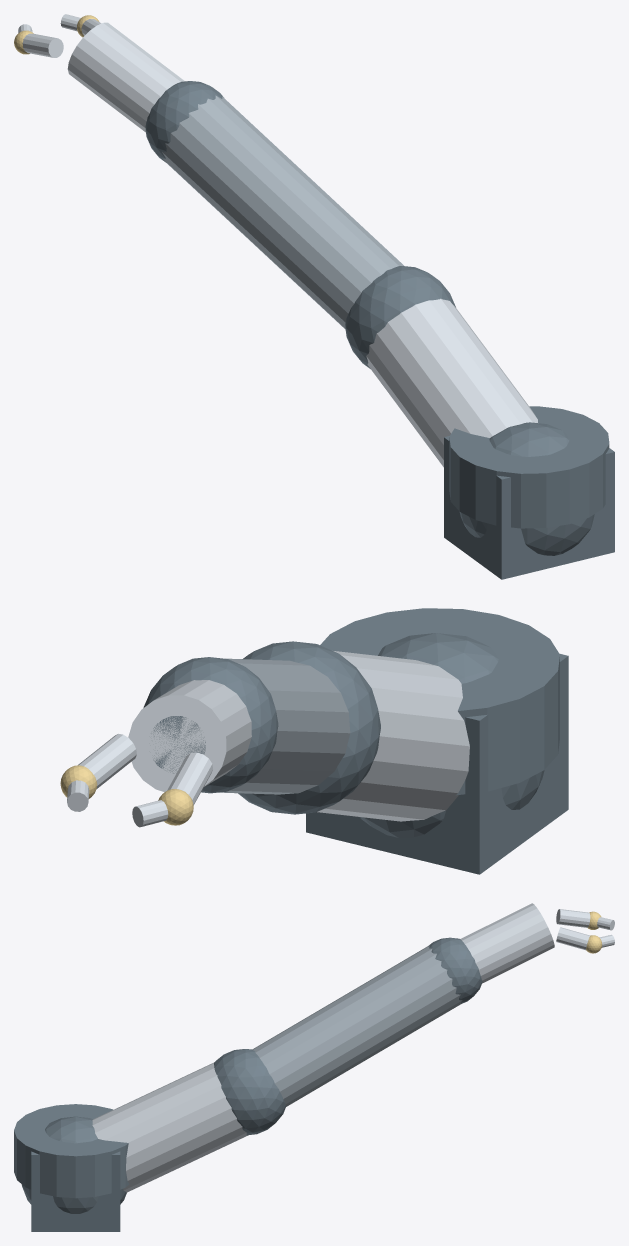
File: servicer_arm_right.glb
The picture shows the model from 3 angles, top to bottom: view 1: azimuth 30°, elevation 25°; view 2: azimuth 150°, elevation 25°; view 3: azimuth 270°, elevation 25°; orthographic projection. The views are drawn at different scales.
Visible parts, largest first — view 1: articulated forearm, primary shoulder link, shoulder yoke, robot arm mounting collar, wrist extension, joint mechanism 2, joint mechanism 1, joint mechanism 3, jaw 0 outer; view 2: shoulder yoke, primary shoulder link, robot arm mounting collar, articulated forearm, wrist extension, joint mechanism 2, joint mechanism 1, joint mechanism 3, jaw 1 outer, jaw 0 outer, wrist motor core, jaw 0 knuckle (+3 smaller); view 3: articulated forearm, primary shoulder link, shoulder yoke, wrist extension, joint mechanism 2, robot arm mounting collar, joint mechanism 3, joint mechanism 1, jaw 0 outer, jaw 1 outer.
Boxes of the visible parts, bbox=[...] form: articulated forearm: bbox=[162, 95, 403, 329]; primary shoulder link: bbox=[366, 298, 537, 467]; shoulder yoke: bbox=[449, 406, 609, 528]; robot arm mounting collar: bbox=[444, 436, 614, 579]; wrist extension: bbox=[67, 22, 184, 132]; joint mechanism 2: bbox=[345, 266, 455, 368]; joint mechanism 1: bbox=[459, 422, 594, 555]; joint mechanism 3: bbox=[145, 81, 223, 162]; jaw 0 outer: bbox=[22, 33, 63, 57]; shoulder yoke: bbox=[320, 608, 559, 795]; primary shoulder link: bbox=[317, 651, 469, 821]; robot arm mounting collar: bbox=[306, 654, 568, 874]; articulated forearm: bbox=[220, 658, 350, 794]; wrist extension: bbox=[128, 680, 251, 792]; joint mechanism 2: bbox=[238, 641, 380, 814]; joint mechanism 1: bbox=[359, 633, 544, 837]; joint mechanism 3: bbox=[143, 657, 278, 793]; jaw 1 outer: bbox=[78, 734, 136, 788]; jaw 0 outer: bbox=[167, 752, 212, 805]; wrist motor core: bbox=[151, 716, 205, 773]; jaw 0 knuckle: bbox=[158, 789, 193, 825]; articulated forearm: bbox=[252, 946, 462, 1106]; primary shoulder link: bbox=[92, 1062, 248, 1192]; shoulder yoke: bbox=[14, 1104, 129, 1198]; wrist extension: bbox=[460, 903, 554, 983]; joint mechanism 2: bbox=[214, 1049, 286, 1135]; robot arm mounting collar: bbox=[31, 1151, 120, 1231]; joint mechanism 3: bbox=[427, 937, 482, 1003]; joint mechanism 1: bbox=[21, 1116, 126, 1213]; jaw 0 outer: bbox=[556, 909, 590, 927]; jaw 1 outer: bbox=[556, 927, 589, 950].
Bounding box in the file's own units: 0.566 × 0.7661 × 1.56.
